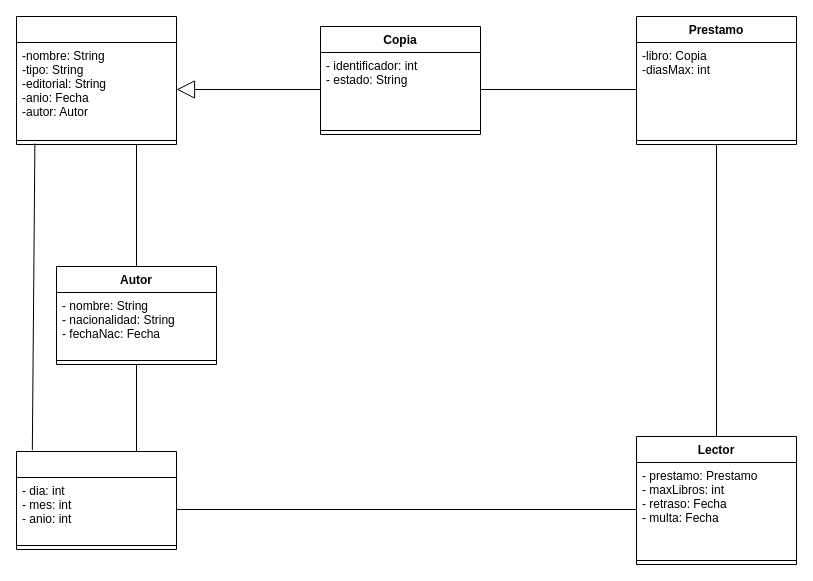
This 813x581 diagram has some shape labels left out. The shapes that lost their labels are listed below. From the top down, each one's box as (x1, y1, x2, y2) in pixels, then its label:
(16, 16, 176, 144): Libro
(16, 450, 176, 550): Fecha
